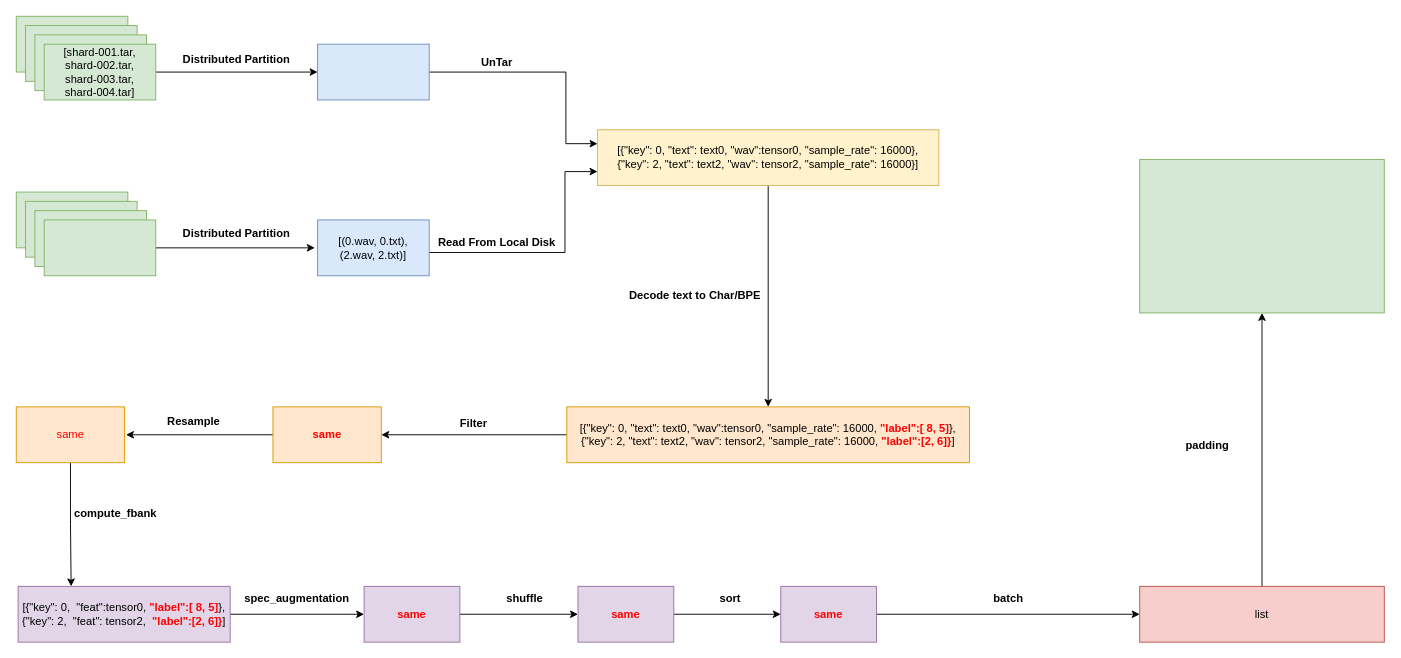
Image size: 1401x658. Some labels were removed from this diagram. Each missing label, with the centre of its shape:
"[(0.wav, 0.txt), (1.wav, 1.txt), (2.wav, 2.txt), (3.wav, 3.txt)]" belongs at point (99, 247).
"[shard-001.tar, shard-002.tar]" belongs at point (373, 71).
"Training Batch (keys, feats, labels, feats_length, label_length)" belongs at point (1261, 236).
